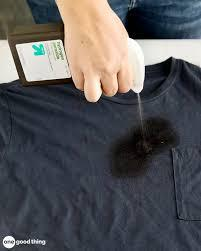mustard: (110, 120, 176, 171)
